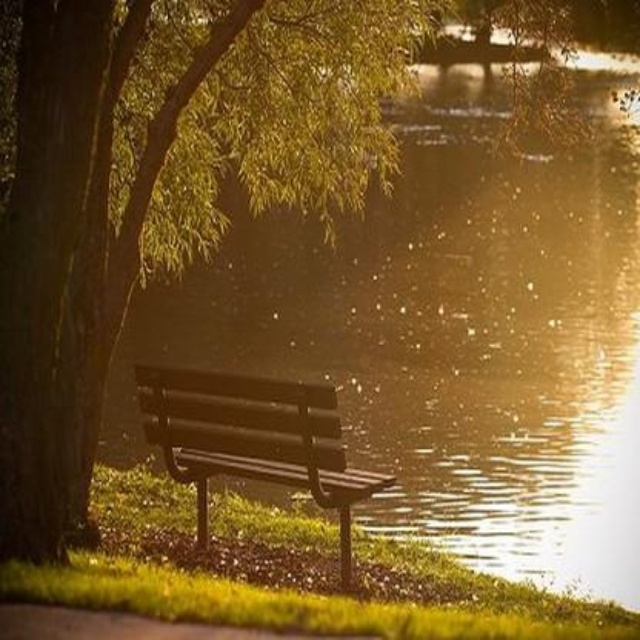obstacle: (117, 349, 406, 617)
